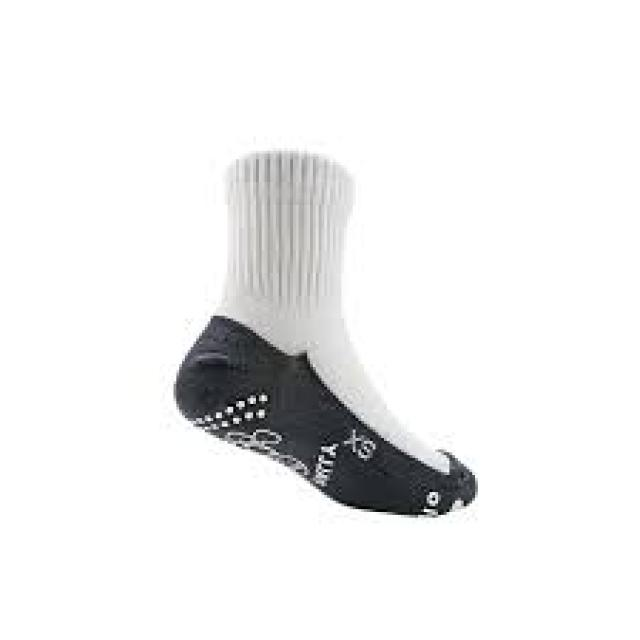sock: (171, 145, 478, 518)
